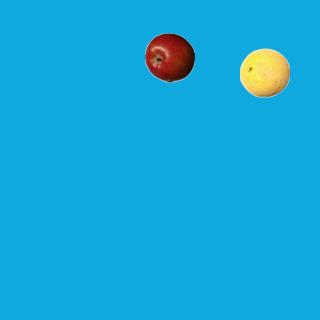Apple Braeburn: (144, 32, 194, 82)
Cantaloupe 1: (239, 47, 289, 97)
